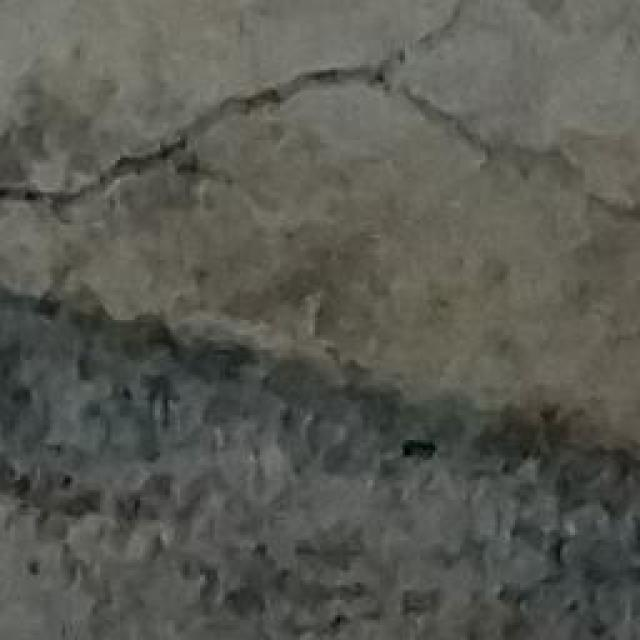Radial: (6, 0, 640, 240)
